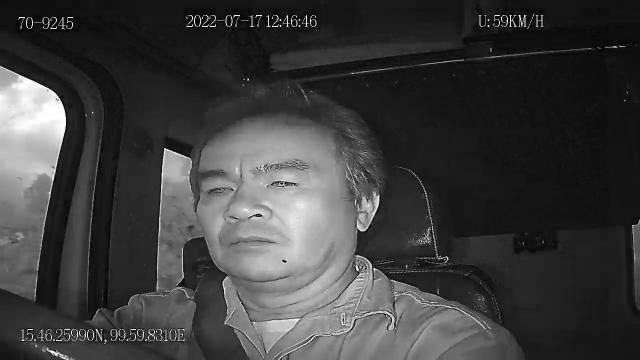SafeDriving: (260, 166, 308, 196), (198, 172, 238, 204)
Seatbelt: (190, 268, 252, 360)
